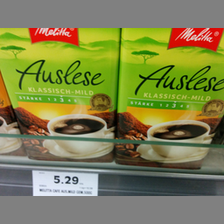chocolate: (1, 28, 120, 160), (117, 28, 223, 168)
